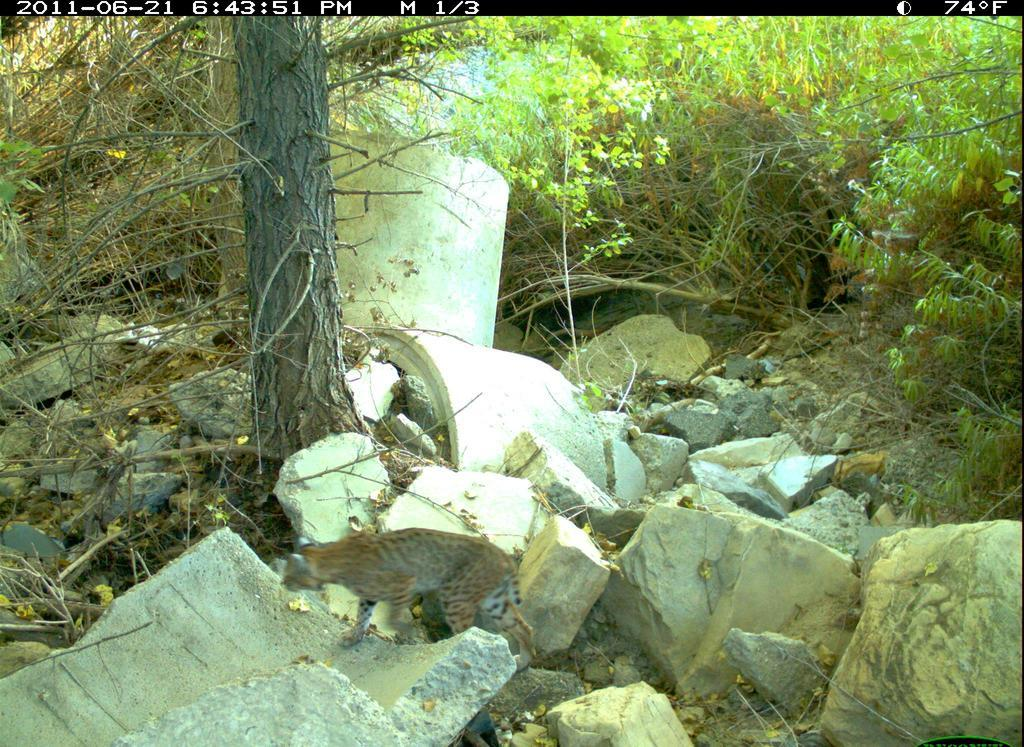bobcat: (278, 519, 539, 683)
